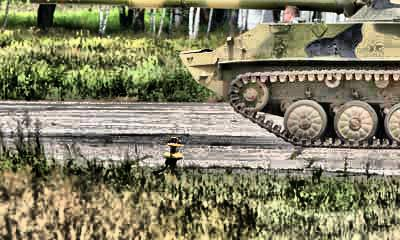tanks: (34, 1, 400, 150)
